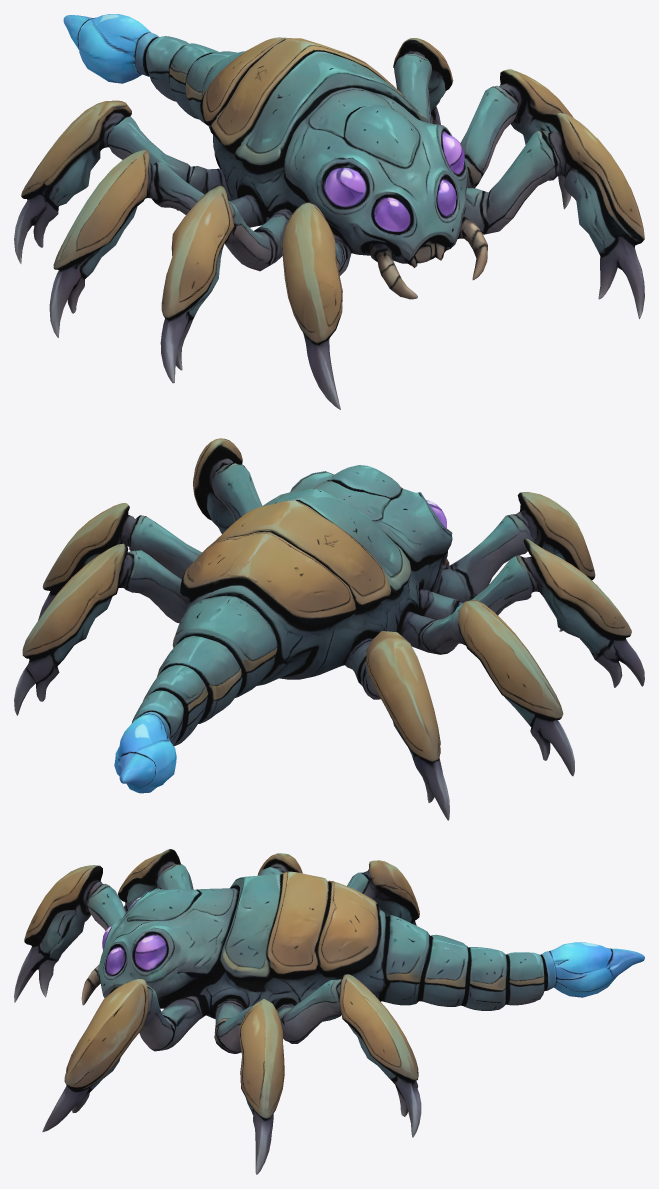
File: base_basic_shaded.glb
3 views of the same model, one above another, from view 1: azimuth 30°, elevation 25°; view 2: azimuth 150°, elevation 25°; view 3: azimuth 270°, elevation 25° (orthographic). The views are drawn at different scales.
Visible parts, largest first — view 1: root.0, root.1, root.2, root.6, root.5, root.4, root.3; view 2: root.0, root.1, root.3, root.6, root.5, root.4, root.2; view 3: root.0, root.1, root.2, root.3, root.4, root.5, root.6.
Boxes of the visible parts, box(x1,y1,x2,y2) form: root.0: box(63, 14, 487, 299); root.1: box(160, 185, 351, 409); root.2: box(464, 113, 644, 318); root.6: box(49, 150, 265, 337); root.5: box(14, 100, 232, 263); root.4: box(460, 69, 573, 209); root.3: box(393, 38, 453, 124); root.0: box(114, 465, 452, 793); root.1: box(417, 492, 644, 687); root.3: box(14, 543, 189, 715); root.6: box(399, 599, 574, 776); root.5: box(345, 631, 449, 820); root.4: box(38, 503, 201, 620); root.2: box(193, 438, 262, 533); root.0: box(81, 871, 644, 1021); root.1: box(14, 849, 193, 1002); root.2: box(42, 979, 208, 1132); root.3: box(276, 974, 421, 1137); root.4: box(214, 999, 284, 1174); root.5: box(347, 860, 419, 925); root.6: box(257, 853, 302, 875).
Bounding box in the file's own units: 2.04 × 0.8 × 2.41.
Materials: 7 (7 with a texture image).
